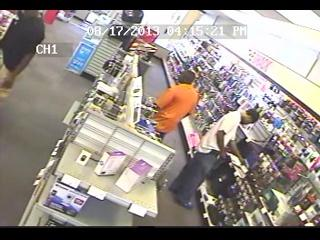Normal: (168, 107, 259, 210), (0, 11, 46, 91), (152, 70, 200, 140)
